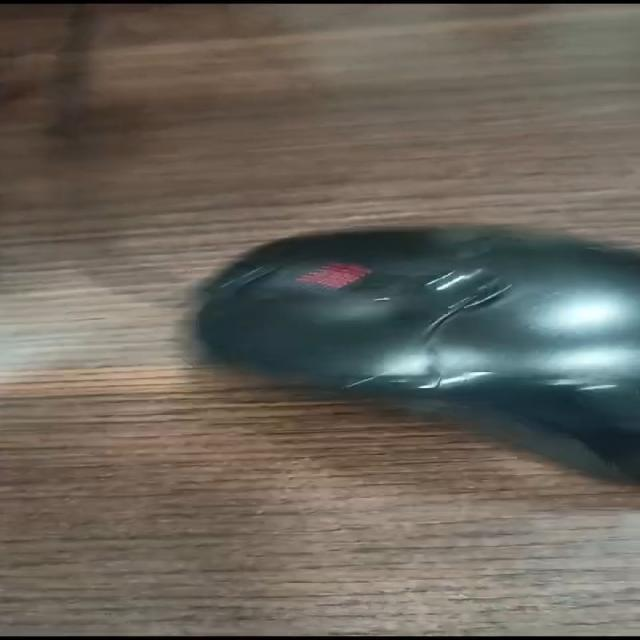mouse: (54, 113, 640, 531)
